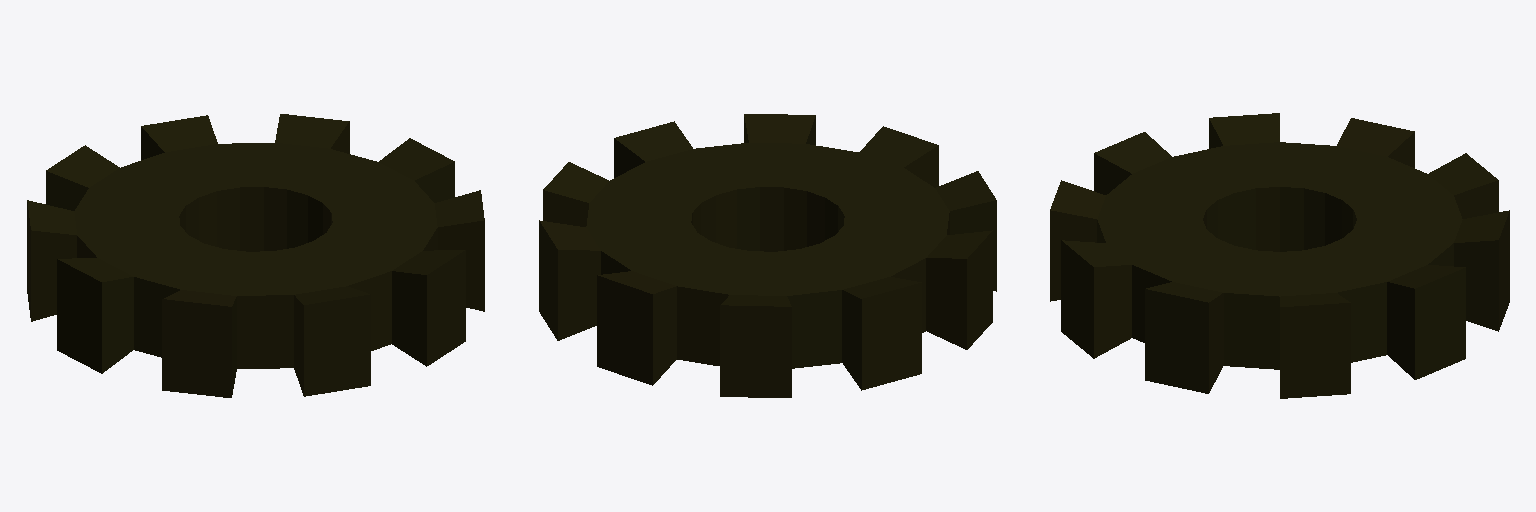
File: Gear.obj
3 renders of one model, left to right at view 1: azimuth 30°, elevation 25°; view 2: azimuth 150°, elevation 25°; view 3: azimuth 270°, elevation 25°, orthographic.
Visible parts, largest first — view 1: pCylinder1; view 2: pCylinder1; view 3: pCylinder1.
Part boxes in pixels (bbox=[...]): pCylinder1: bbox=[27, 114, 484, 397]; pCylinder1: bbox=[539, 114, 996, 397]; pCylinder1: bbox=[1050, 113, 1509, 398].
Size of the model in its own units: 2 by 0.4392 by 2.